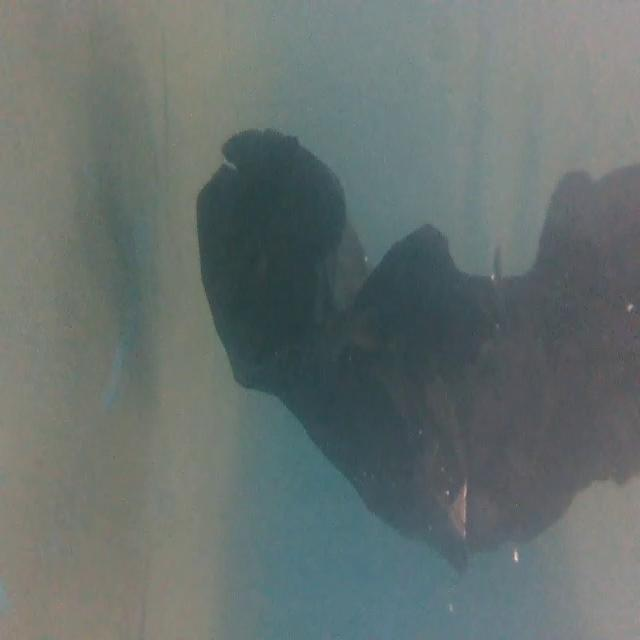plastic bags: (179, 110, 640, 562)
